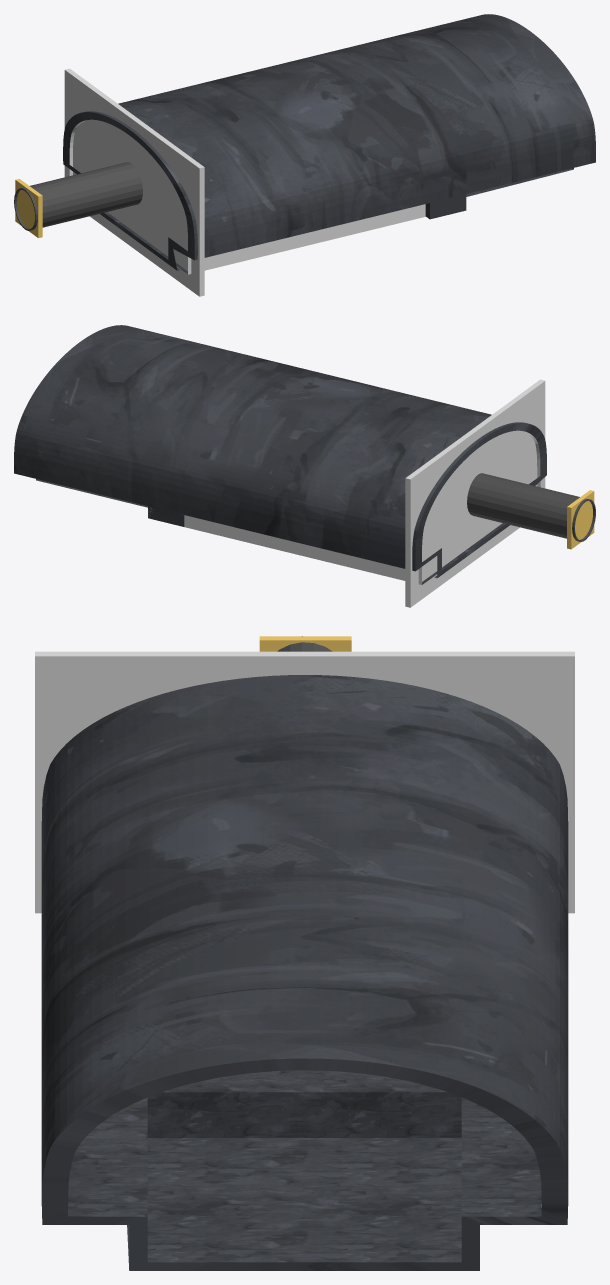
Rendered from end.fbx.
3 views of the same model, one above another, from view 1: azimuth 30°, elevation 25°; view 2: azimuth 150°, elevation 25°; view 3: azimuth 270°, elevation 25° (orthographic). The views are drawn at different scales.
Parts seen in each view (by area): view 1: Cylinder, endTunnel, Pipe, endPipe; view 2: Cylinder, endTunnel, Pipe, endPipe; view 3: Cylinder, endTunnel, endPipe.
Part boxes in pixels (x1,y1,x2,y2): Cylinder: (63, 14, 595, 274); endTunnel: (64, 68, 204, 296); Pipe: (14, 162, 142, 230); endPipe: (15, 179, 42, 238); Cylinder: (14, 325, 546, 584); endTunnel: (405, 379, 545, 607); Pipe: (467, 473, 595, 541); endPipe: (567, 490, 594, 549); Cylinder: (41, 675, 568, 1270); endTunnel: (35, 651, 574, 913); endPipe: (259, 636, 351, 651).
Size of the model in its own units: 2660 by 646 by 1230.
Materials: 4 (1 with a texture image).
